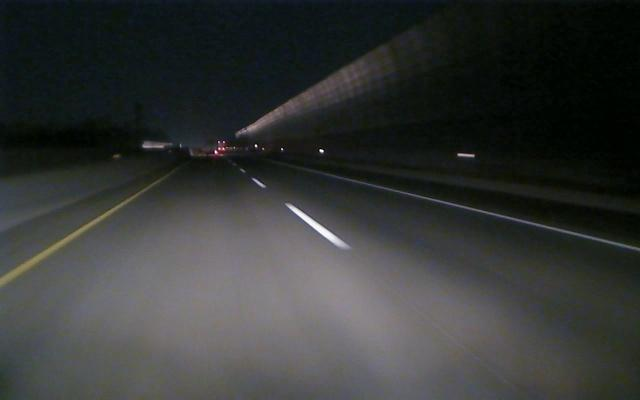lane: (328, 174, 639, 251), (3, 190, 143, 286), (252, 179, 353, 249)
